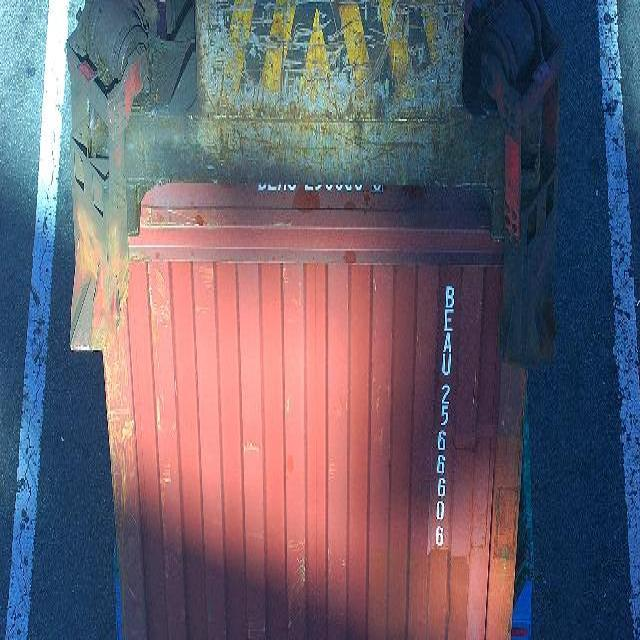container_number: (426, 274, 456, 560)
